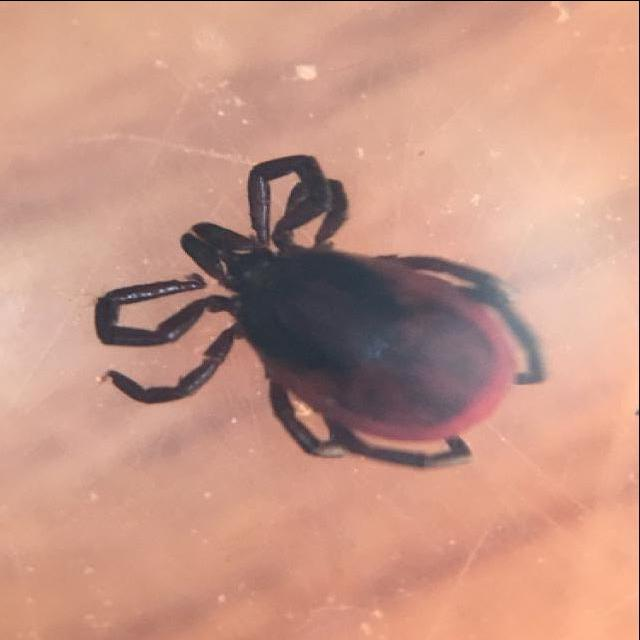Ixodes Ricinus-M: (96, 154, 550, 471)
